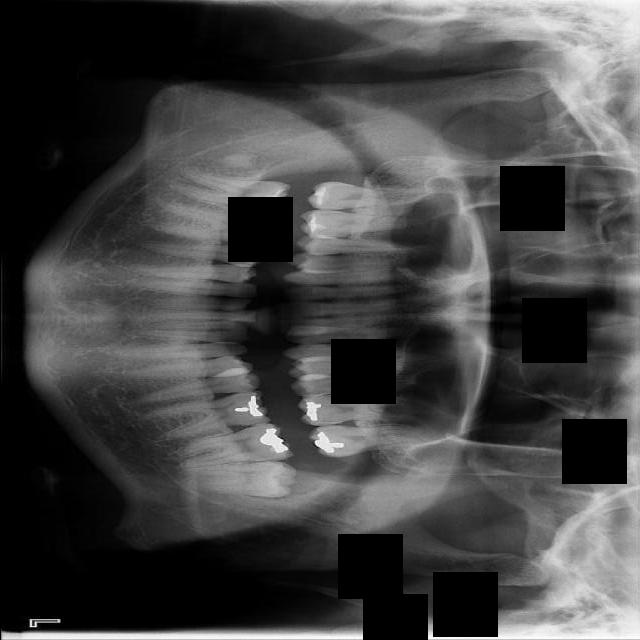52: (234, 415, 295, 472), (214, 386, 272, 436), (232, 173, 290, 221), (307, 418, 369, 462), (304, 177, 356, 215), (221, 211, 272, 249), (298, 207, 351, 239), (295, 394, 348, 426)
73: (46, 612, 56, 618)
BioHorizons Implant: (306, 422, 430, 458)
Biomet 3i Implant: (191, 461, 297, 498)
Blue Sky Bio Implant: (173, 420, 293, 469)
Caries: (307, 181, 437, 210)
Implant: (169, 168, 292, 220)
